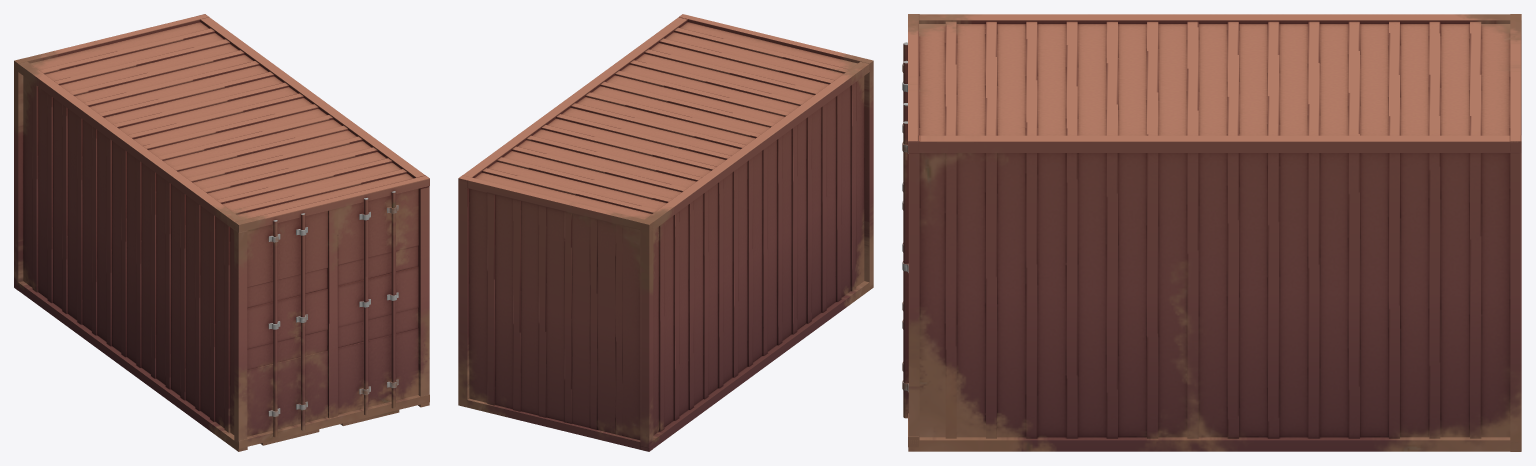
File: Container_Red.glb
3 views of the same model, side by side, from view 1: azimuth 30°, elevation 25°; view 2: azimuth 150°, elevation 25°; view 3: azimuth 270°, elevation 25° (orthographic). The views are drawn at different scales.
Visible parts, largest first — view 1: Container_Blue (×2); view 2: Container_Blue (×2); view 3: Container_Blue (×2).
Boxes of the visible parts, x1,y1,x2,y2 form: Container_Blue (×2): (14, 14, 429, 451); Container_Blue (×2): (458, 14, 873, 451); Container_Blue (×2): (902, 14, 1521, 451).
Size of the model in its own units: 2.72 by 3.09 by 5.58.
1 material, 1 textured.
